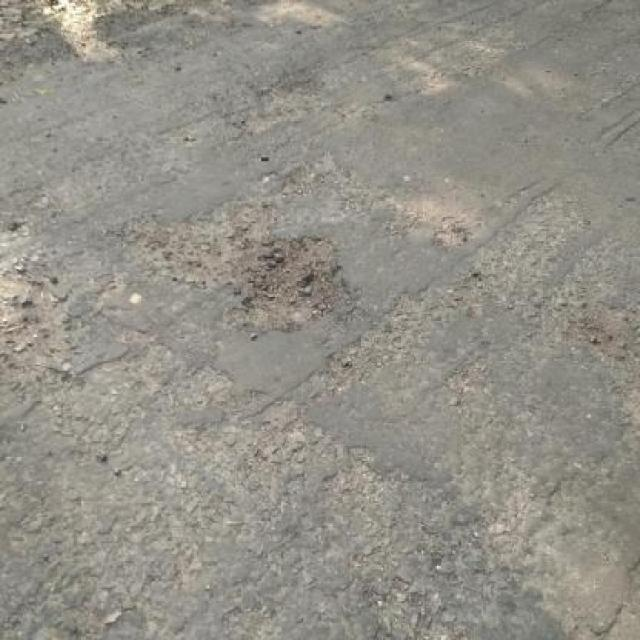Pothole: (240, 230, 358, 332)
